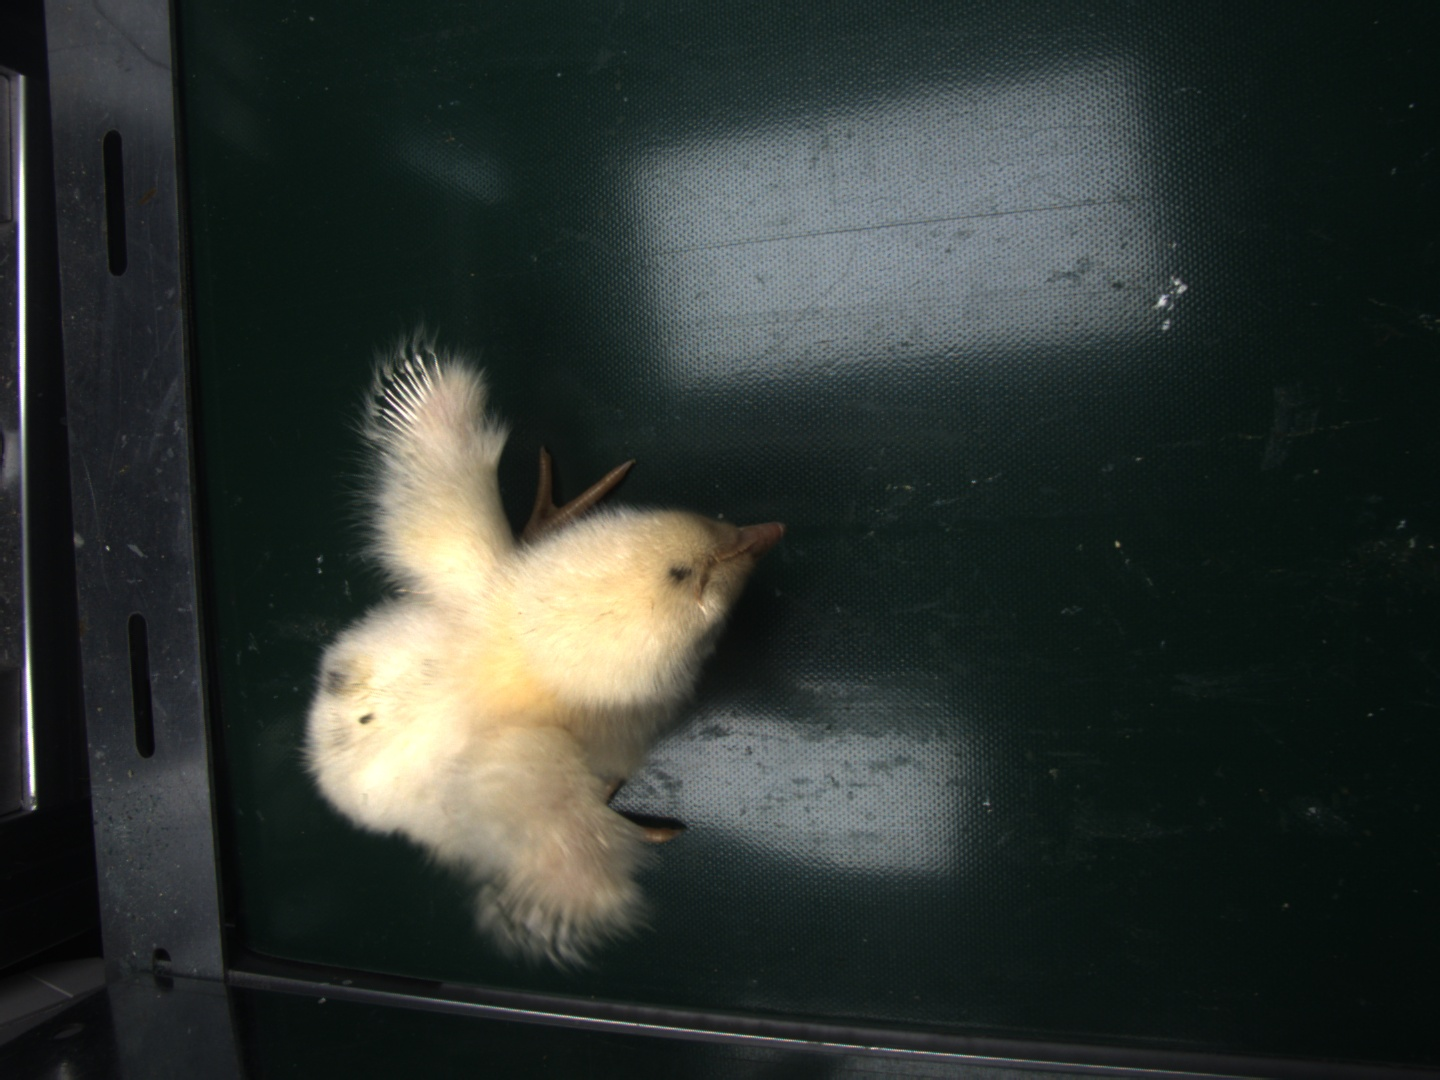male: (378, 354, 446, 438)
